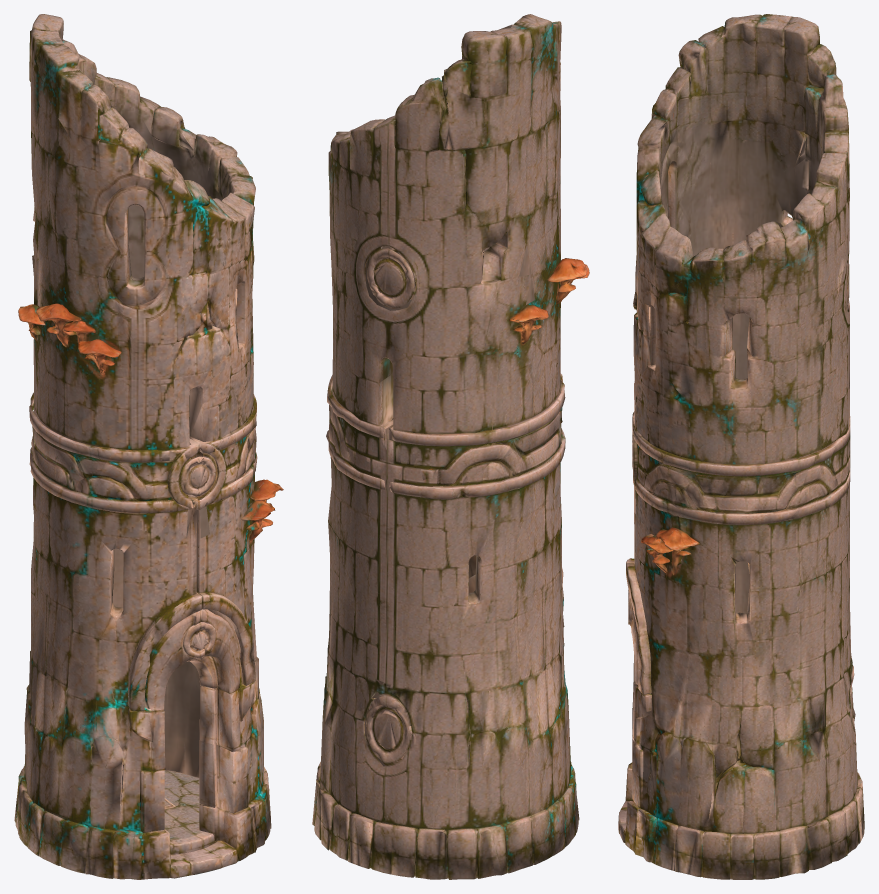
File: citadel_tower.glb
3 renders of one model, left to right at view 1: azimuth 30°, elevation 25°; view 2: azimuth 150°, elevation 25°; view 3: azimuth 270°, elevation 25°, orthographic. The views are drawn at different scales.
Size of the model in its own units: 0.2856 by 0.9512 by 0.2749.
Materials: 1 (1 with a texture image).
